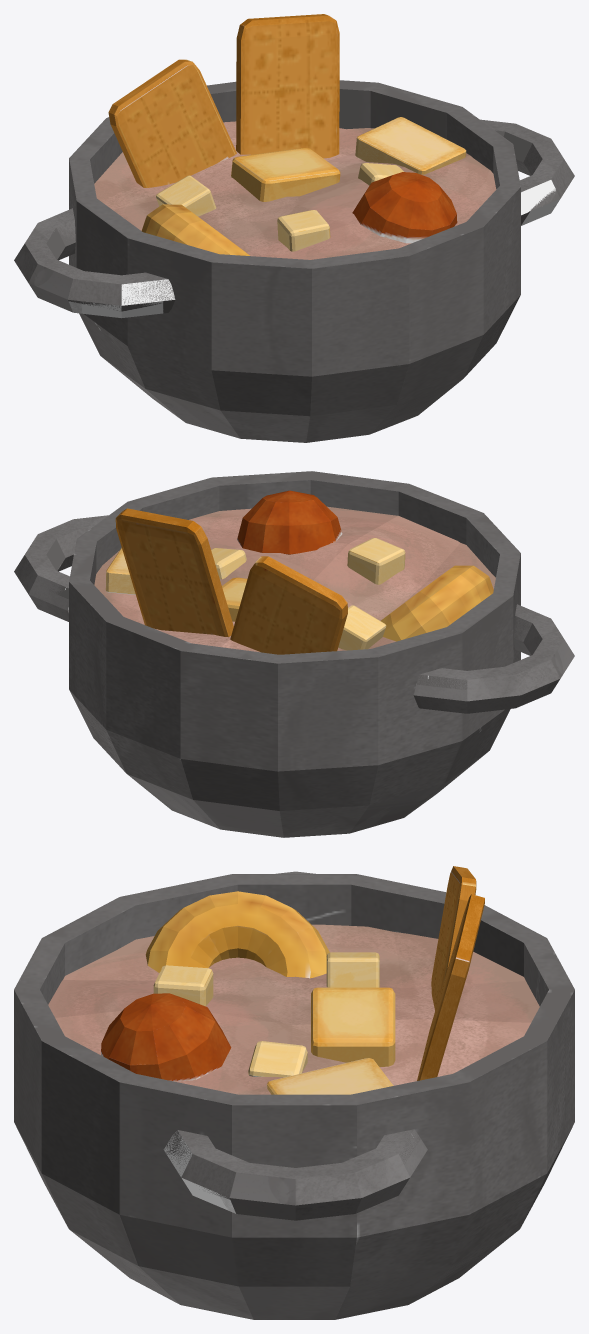
File: migao.glb
3 views of the same model, one above another, from view 1: azimuth 30°, elevation 25°; view 2: azimuth 150°, elevation 25°; view 3: azimuth 270°, elevation 25° (orthographic). The views are drawn at different scales.
Visible parts, largest first — view 1: Cylinder, Plane, galleta, Torus, galleta.001, Sphere, quesito.001, quesito.002, pan de queso, quesito 2, quesito, quesito 3; view 2: Cylinder, Plane, Torus, galleta, galleta.001, Sphere, pan de queso, quesito 2, quesito, quesito.002, quesito 3, quesito.001; view 3: Cylinder, Plane, Torus, pan de queso, Sphere, quesito.001, galleta, quesito.002, galleta.001, quesito, quesito 2, quesito 3.
Boxes of the visible parts, x1=… form: Cylinder: x1=69, y1=80, x2=520, y2=442; Plane: x1=94, y1=121, x2=496, y2=259; galleta: x1=236, y1=14, x2=339, y2=158; Torus: x1=14, y1=119, x2=574, y2=318; galleta.001: x1=108, y1=59, x2=236, y2=187; Sphere: x1=352, y1=172, x2=457, y2=243; quesito.001: x1=231, y1=148, x2=340, y2=201; quesito.002: x1=355, y1=117, x2=466, y2=174; pan de queso: x1=141, y1=204, x2=249, y2=255; quesito 2: x1=277, y1=210, x2=330, y2=251; quesito: x1=156, y1=175, x2=216, y2=216; quesito 3: x1=358, y1=163, x2=403, y2=185; Cylinder: x1=69, y1=471, x2=520, y2=837; Plane: x1=94, y1=506, x2=495, y2=652; Torus: x1=14, y1=515, x2=574, y2=713; galleta: x1=115, y1=508, x2=233, y2=637; galleta.001: x1=230, y1=556, x2=347, y2=654; Sphere: x1=237, y1=490, x2=342, y2=554; pan de queso: x1=381, y1=565, x2=493, y2=641; quesito 2: x1=347, y1=538, x2=405, y2=584; quesito: x1=338, y1=605, x2=386, y2=650; quesito.002: x1=105, y1=547, x2=135, y2=594; quesito 3: x1=211, y1=548, x2=246, y2=579; quesito.001: x1=222, y1=577, x2=247, y2=621; Cylinder: x1=14, y1=874, x2=574, y2=1319; Plane: x1=48, y1=924, x2=539, y2=1094; Torus: x1=163, y1=871, x2=427, y2=1220; pan de queso: x1=145, y1=891, x2=329, y2=978; Sphere: x1=101, y1=993, x2=231, y2=1081; quesito.001: x1=311, y1=987, x2=395, y2=1066; galleta: x1=417, y1=894, x2=484, y2=1080; quesito.002: x1=267, y1=1058, x2=393, y2=1094; galleta.001: x1=431, y1=866, x2=476, y2=1010; quesito: x1=326, y1=952, x2=379, y2=987; quesito 2: x1=153, y1=965, x2=213, y2=1006; quesito 3: x1=248, y1=1041, x2=307, y2=1077.
Size of the model in its own units: 2.69 by 1.45 by 2.
12 materials, 12 textured.
